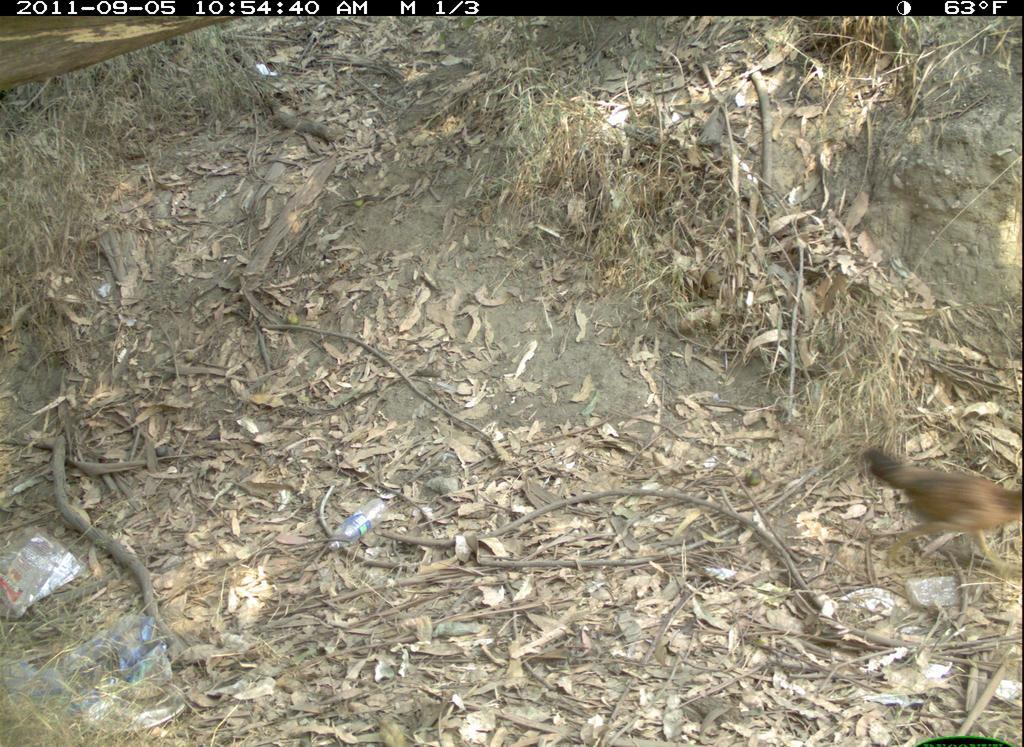bird: (848, 441, 1023, 571)
